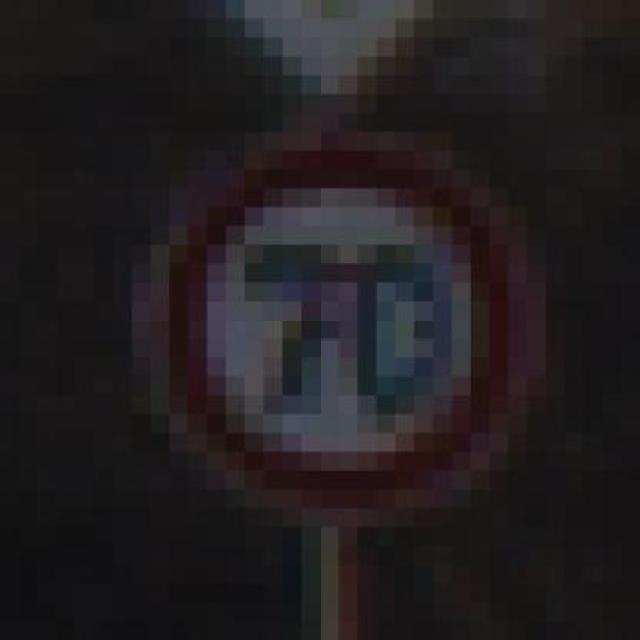forb_speed_over_70: (156, 145, 522, 498)
